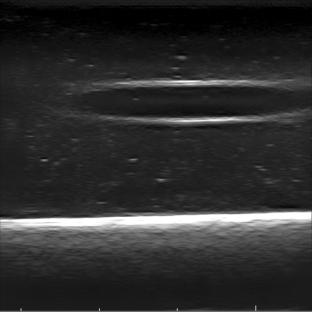vessel: (80, 78, 308, 126)
